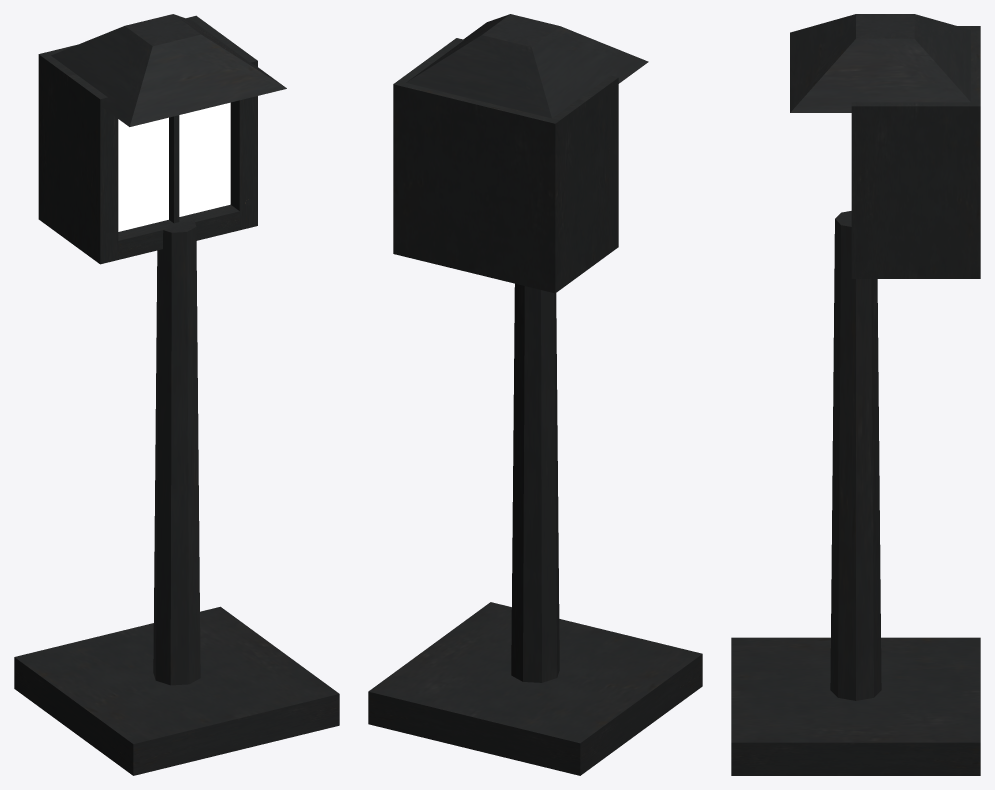
File: lamp_stand.glb
3 views of the same model, side by side, from view 1: azimuth 30°, elevation 25°; view 2: azimuth 150°, elevation 25°; view 3: azimuth 270°, elevation 25° (orthographic). The views are drawn at different scales.
Parts seen in each view (by area): view 1: outdoor_lamp_stand; view 2: outdoor_lamp_stand; view 3: outdoor_lamp_stand.
Boxes of the visible parts, x1,y1,x2,y2 form: outdoor_lamp_stand: (14, 14, 339, 775); outdoor_lamp_stand: (368, 14, 702, 775); outdoor_lamp_stand: (731, 14, 980, 775).
Bounding box in the file's own units: 0.34 × 1.05 × 0.34.
Materials: 2 (2 with a texture image).
